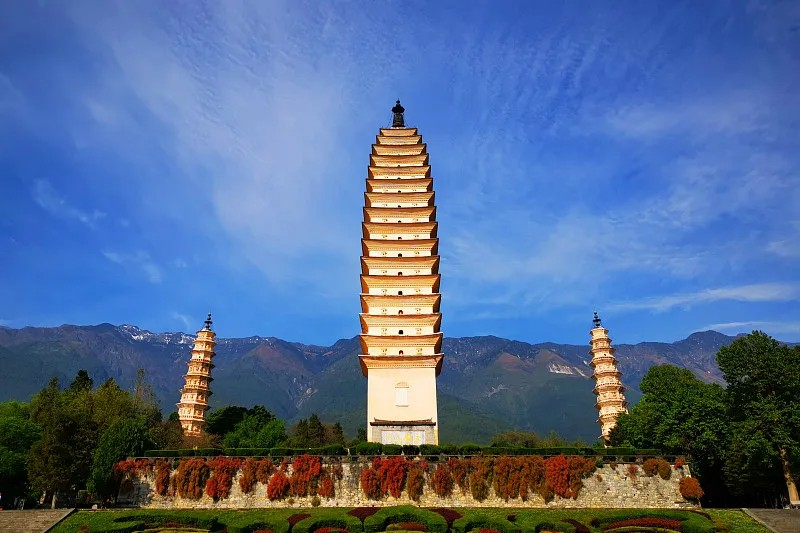ThreePagoda: (358, 97, 445, 445)
